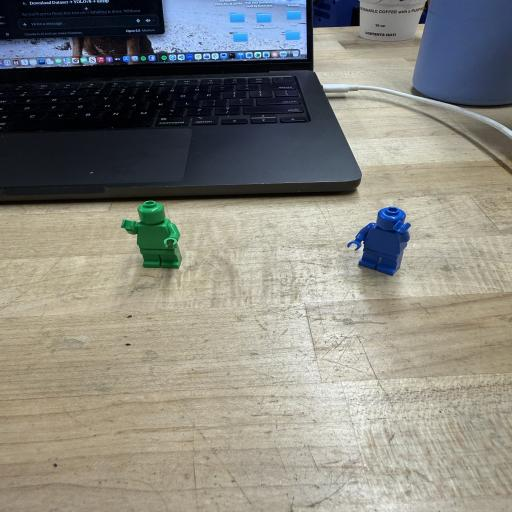blue-minifig: (356, 207, 410, 275)
green-minifig: (122, 201, 181, 268)
